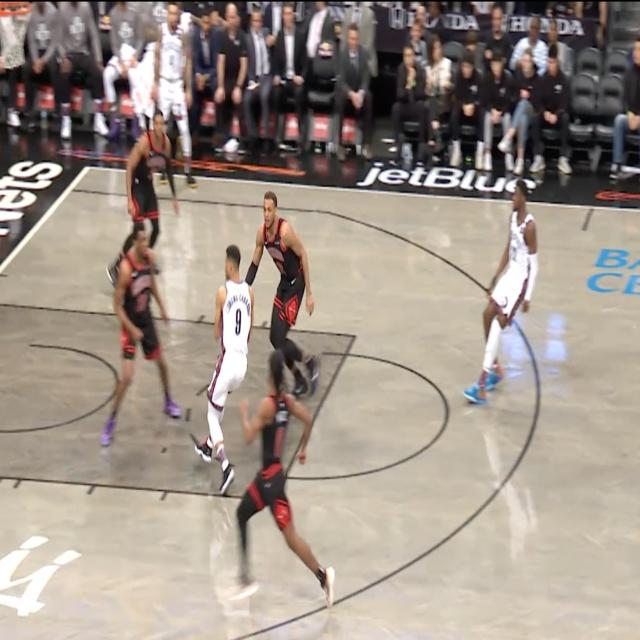no foul: (179, 179, 343, 592), (378, 151, 591, 440)
